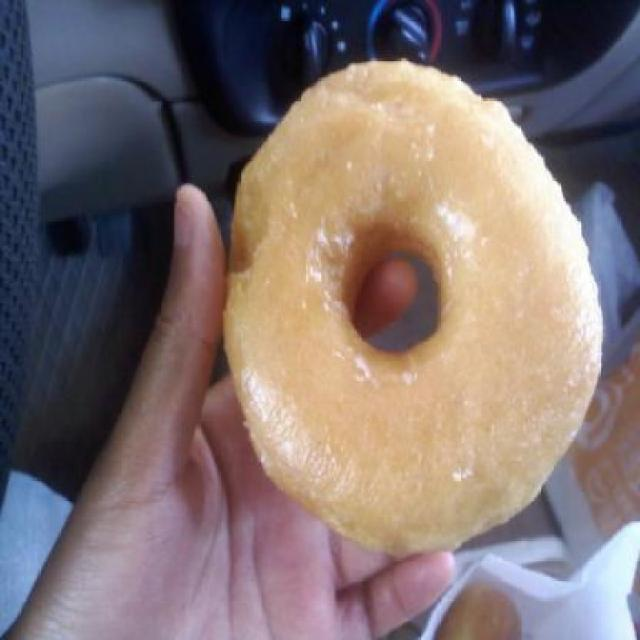Donuts: (210, 46, 639, 597)
